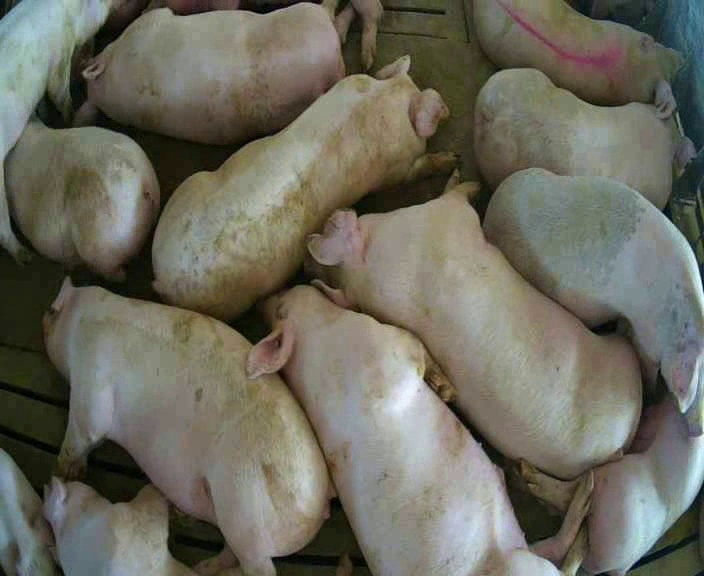pig: (304, 168, 641, 478), (248, 286, 594, 574), (44, 279, 329, 575), (153, 57, 459, 318), (483, 168, 703, 434), (72, 1, 354, 143), (474, 68, 696, 208), (0, 2, 113, 259), (5, 121, 159, 279), (474, 2, 683, 108), (43, 477, 192, 574)
